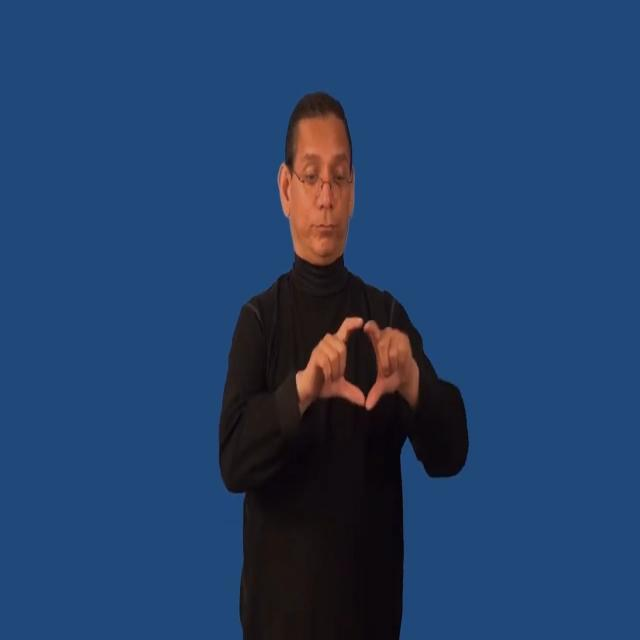coupon: (268, 307, 436, 432)
